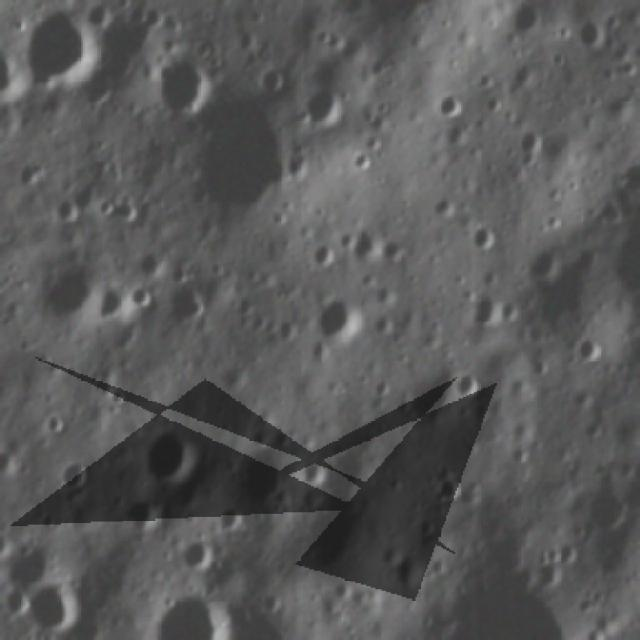crater: (27, 7, 108, 87), (150, 596, 241, 638), (155, 54, 213, 117), (146, 435, 205, 488), (309, 298, 362, 350), (28, 577, 86, 623), (308, 86, 346, 134), (451, 360, 486, 409), (179, 542, 230, 575), (56, 459, 92, 496), (471, 220, 504, 258), (45, 199, 89, 227), (570, 332, 607, 365), (133, 497, 165, 535), (131, 276, 163, 313), (472, 291, 502, 329), (215, 505, 252, 533), (437, 472, 472, 501), (437, 89, 468, 120), (306, 242, 340, 270), (516, 128, 547, 157), (36, 411, 72, 434), (301, 461, 330, 488), (260, 64, 282, 99), (100, 194, 122, 220), (542, 210, 566, 233), (38, 510, 61, 532), (352, 151, 374, 174), (418, 518, 440, 539), (544, 546, 562, 568), (564, 176, 584, 195)
